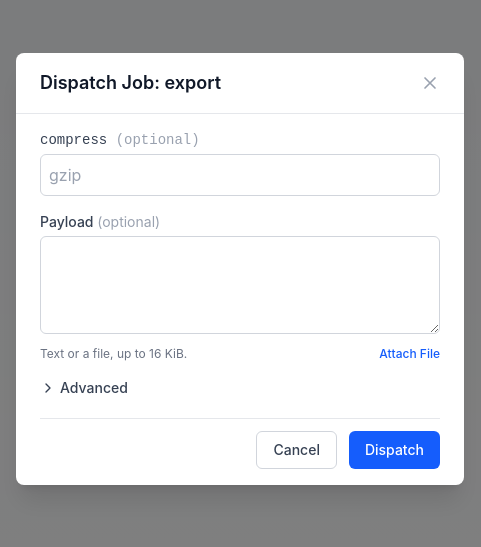
Scenario: DispatchJobModal › shows the error of Nomad and keeps the form
The image size is (481, 547).
Click the button "Dispatch".
click(394, 450)  # box [349,431,440,469]
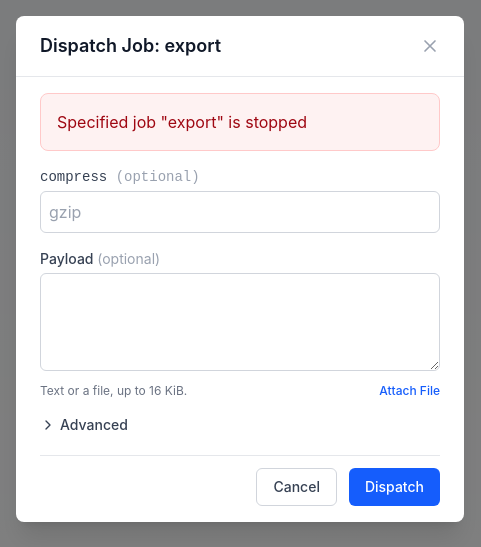
Expected: the button "Dispatch" is shown, [349,468,440,506]
Expected: the text "Specified job \"export\" is stopped" is shown, [57,112,307,132]
